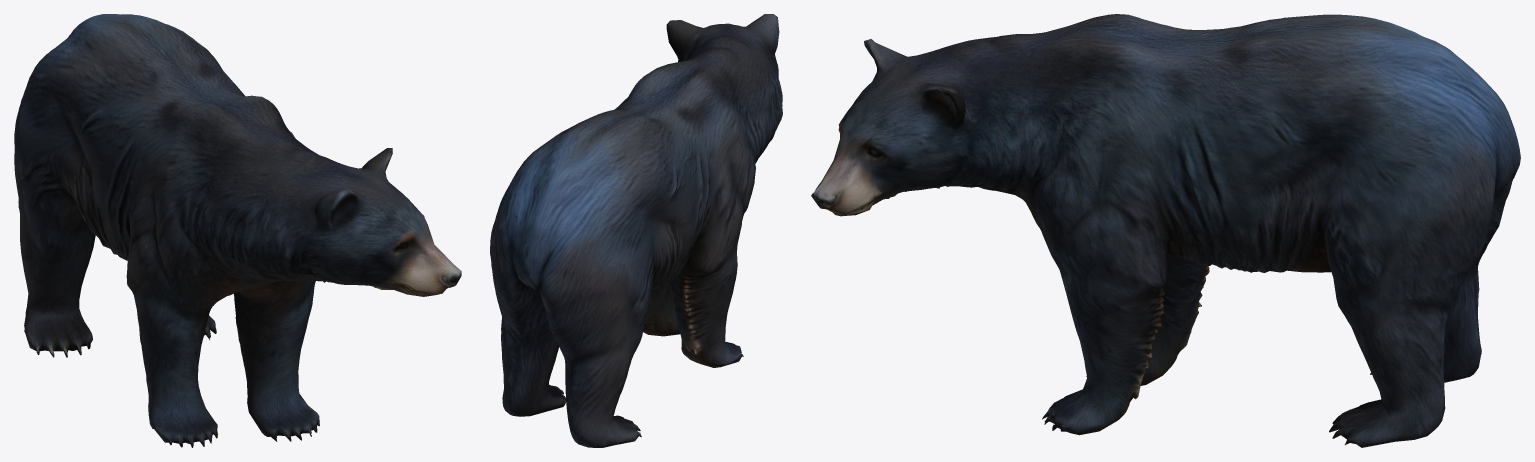
The model's file is black-bear.glb.
3 renders of one model, left to right at view 1: azimuth 30°, elevation 25°; view 2: azimuth 150°, elevation 25°; view 3: azimuth 270°, elevation 25°, orthographic. The views are drawn at different scales.
Size of the model in its own units: 0.6514 by 1.11 by 1.9.
Materials: 1 (1 with a texture image).
